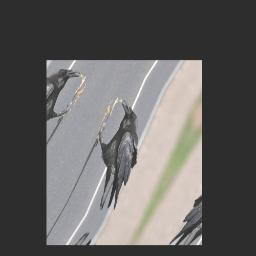Crow: (68, 97, 161, 217)
